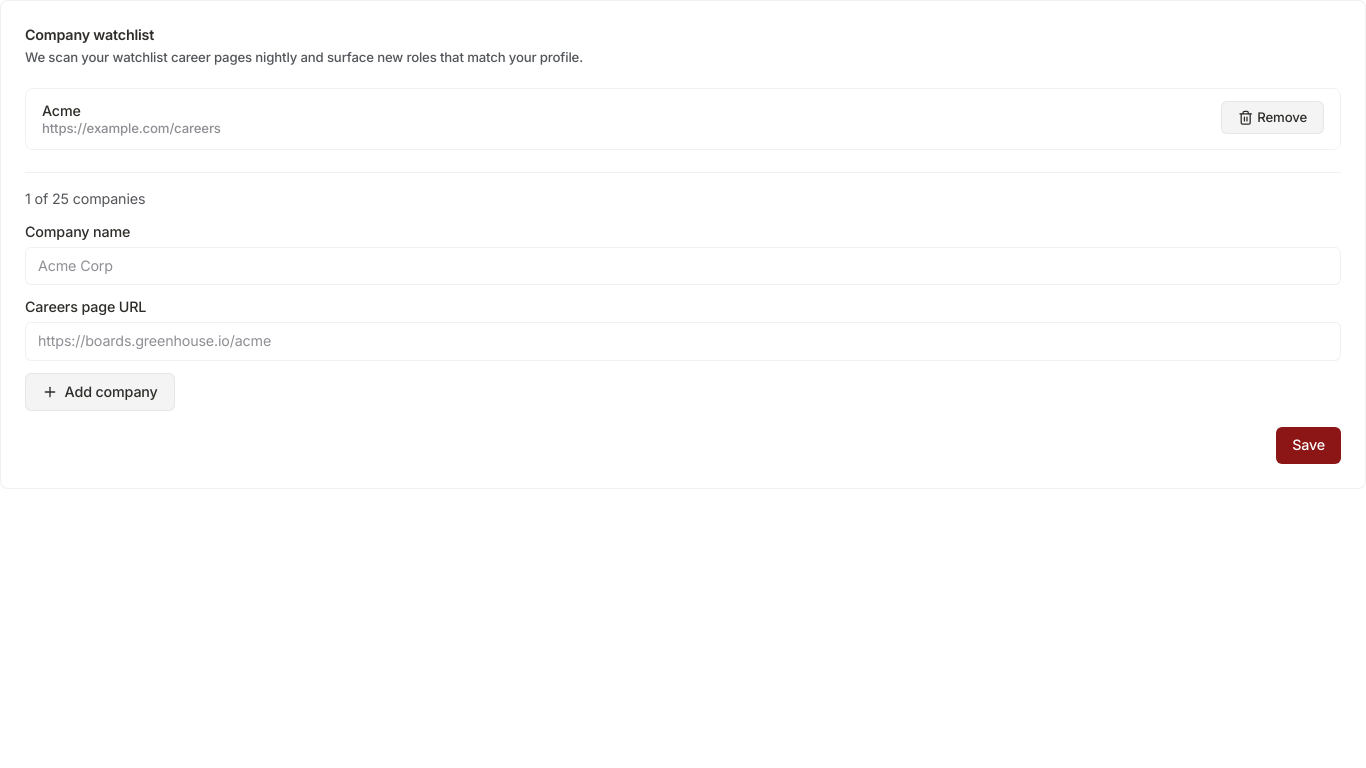
Test: SettingsWatchlistSection › should show confirmation dialog before removing a company
This screenshot has width=1366, height=768.
Click the button with aria-label "remove acme": (1272, 118) [1221,101,1324,134]
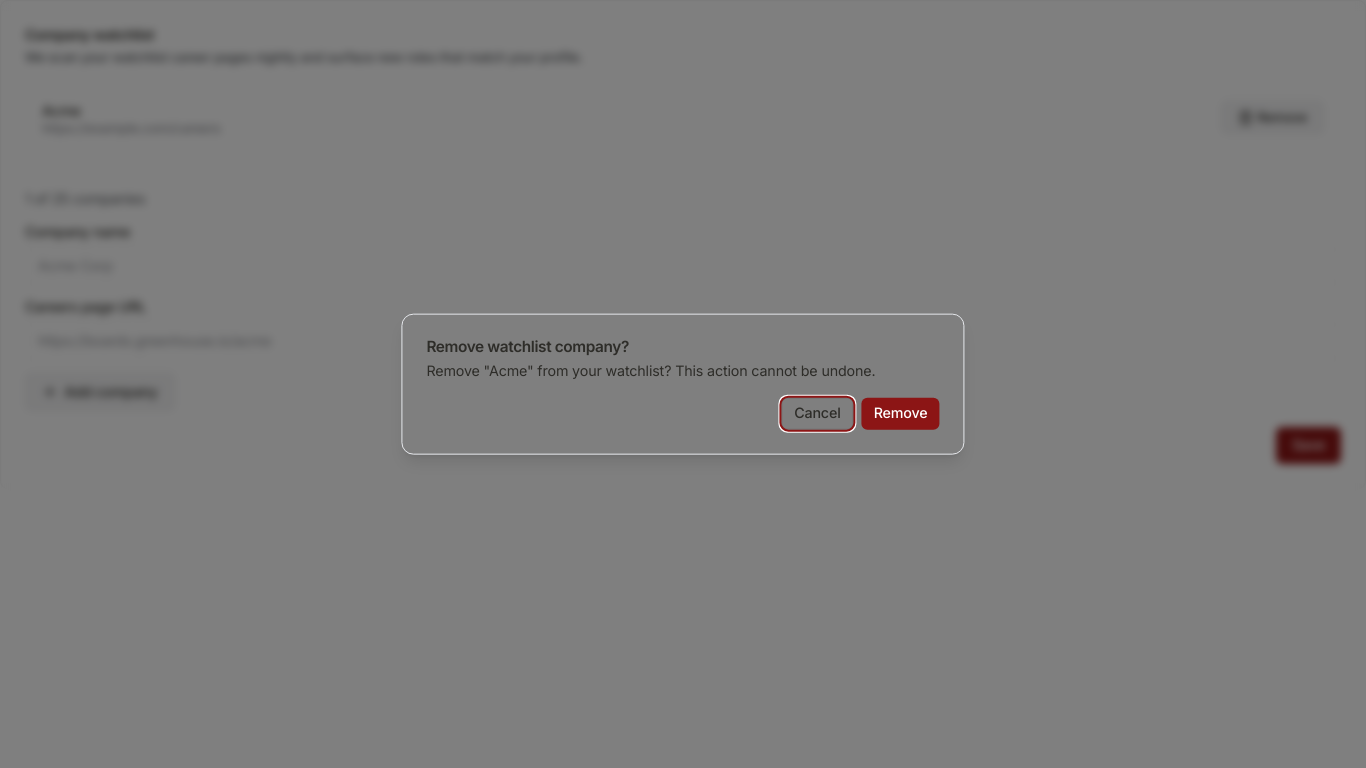
Result: the dialog is shown at [401,314,965,454]
Result: the text "Remove \"Acme\" from your watchlist" is shown at [426,362,875,379]
